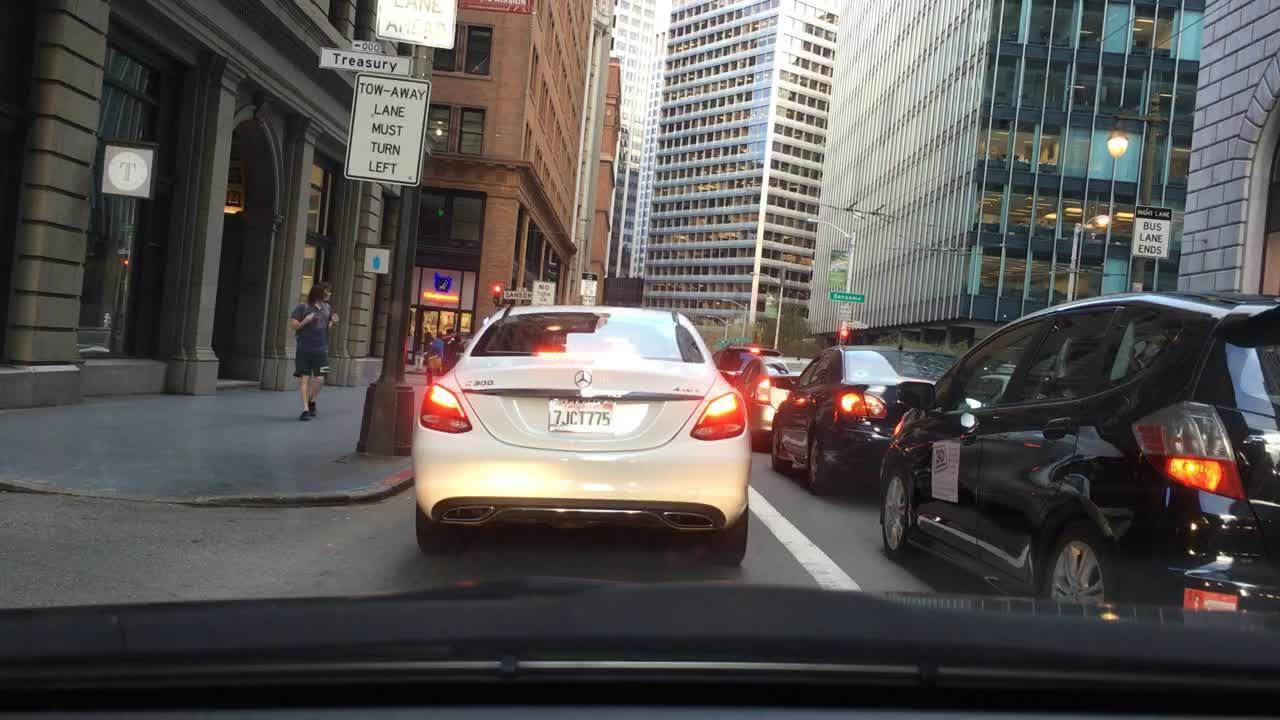Mercedes: (562, 362, 601, 391)
